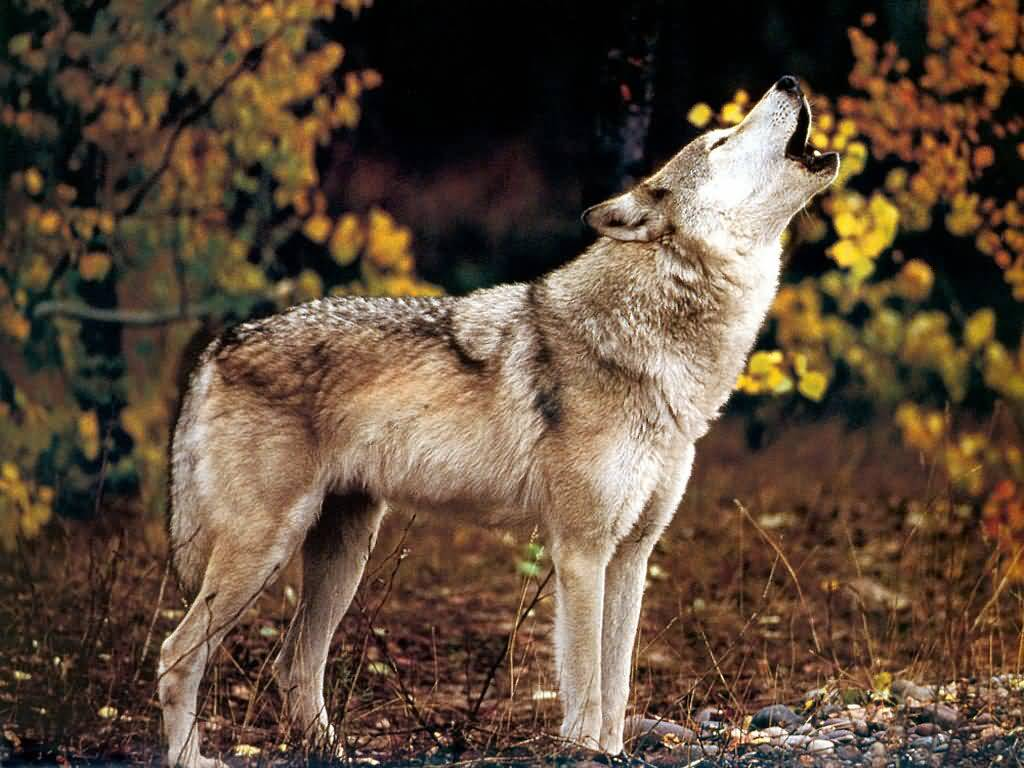wolf: (143, 59, 870, 768)
